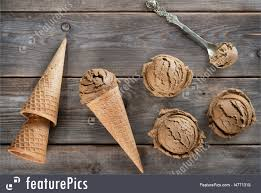ice-cream: (149, 108, 205, 161), (208, 88, 258, 140), (143, 55, 193, 98), (79, 69, 119, 106), (209, 41, 237, 68)
